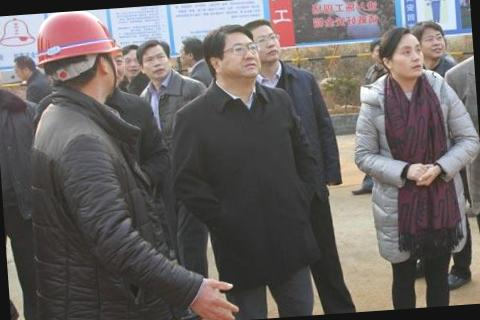no_helmet: (204, 23, 262, 86), (378, 24, 427, 84), (246, 19, 284, 72), (411, 18, 449, 66), (134, 35, 171, 83), (174, 34, 206, 71), (9, 51, 39, 88), (120, 41, 142, 79)
